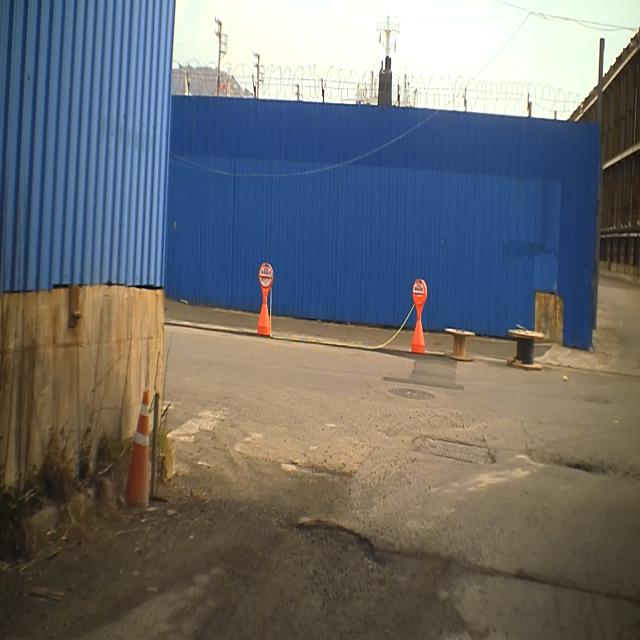Pothole: (289, 492, 383, 578), (519, 432, 640, 496), (287, 449, 359, 489)
